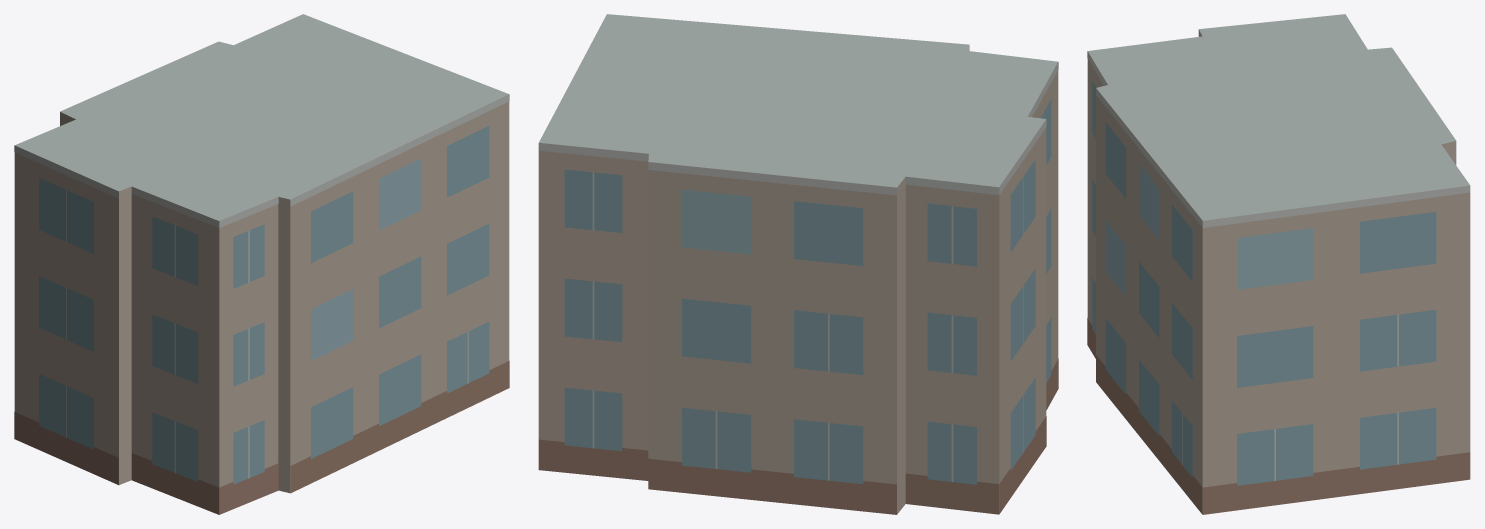
Rendered from survey-upis-32729013.glb.
The picture shows the model from 3 angles, left to right: view 1: azimuth 30°, elevation 25°; view 2: azimuth 150°, elevation 25°; view 3: azimuth 270°, elevation 25°; orthographic projection. The views are drawn at different scales.
Visible parts, largest first — view 1: survey-upis-32729013.tmp; view 2: survey-upis-32729013.tmp; view 3: survey-upis-32729013.tmp.
Boxes of the visible parts, left/top/right/bottom form: survey-upis-32729013.tmp: left=14, top=14, right=509, bottom=514; survey-upis-32729013.tmp: left=538, top=14, right=1058, bottom=514; survey-upis-32729013.tmp: left=1087, top=14, right=1470, bottom=514.
Bounding box in the file's own units: 15.25 × 10.1 × 11.93.
